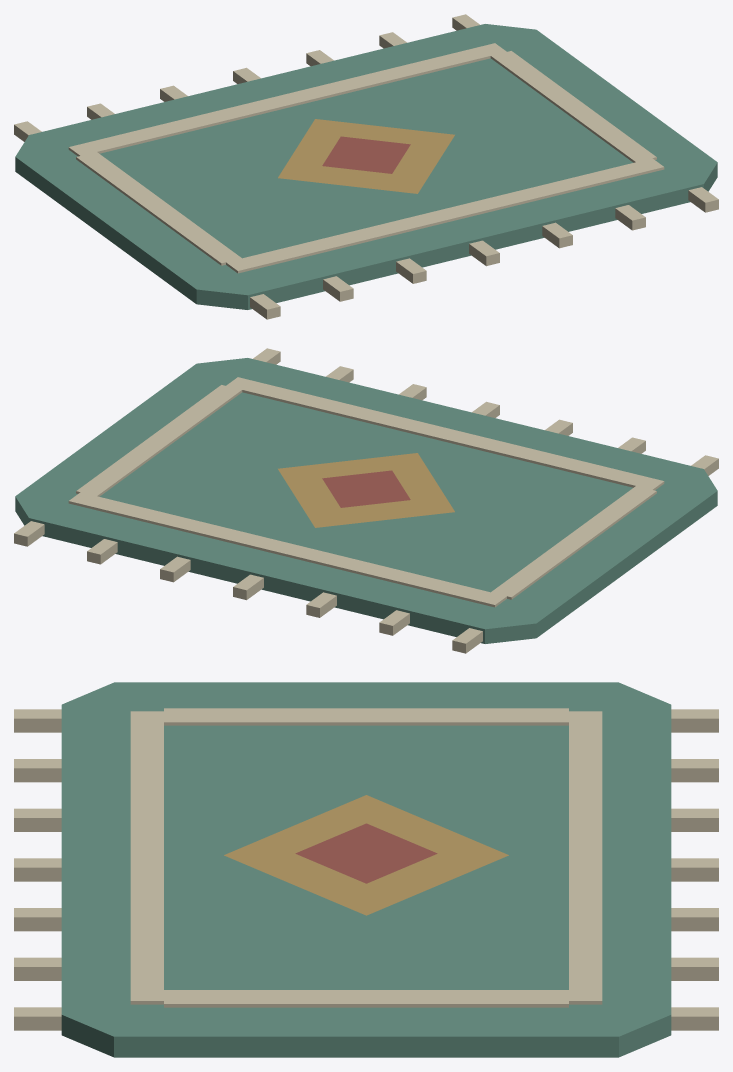
Rendered from rug_small.glb.
3 views of the same model, one above another, from view 1: azimuth 30°, elevation 25°; view 2: azimuth 150°, elevation 25°; view 3: azimuth 270°, elevation 25° (orthographic). The views are drawn at different scales.
Parts seen in each view (by area): view 1: geometry; view 2: geometry; view 3: geometry.
Part boxes in pixels (bbox=[...]): geometry: bbox=[14, 14, 718, 319]; geometry: bbox=[14, 348, 718, 653]; geometry: bbox=[14, 682, 718, 1057].
Bounding box in the file's own units: 0.88 × 0.031 × 0.74.
